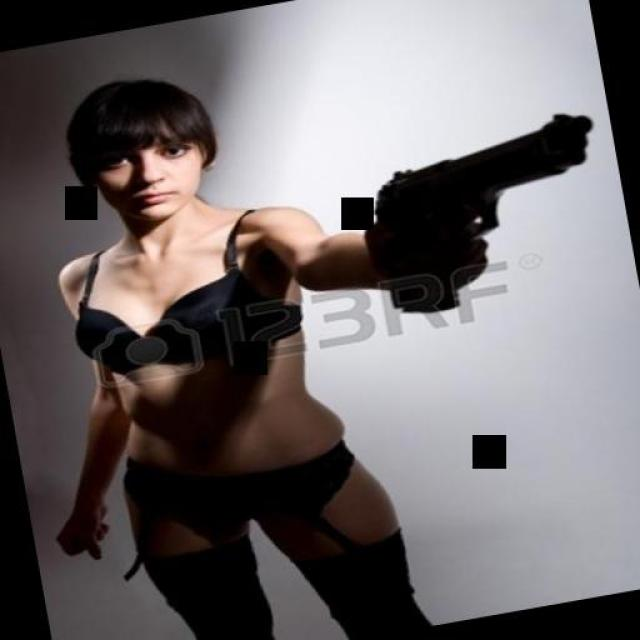gun: (351, 106, 619, 322)
